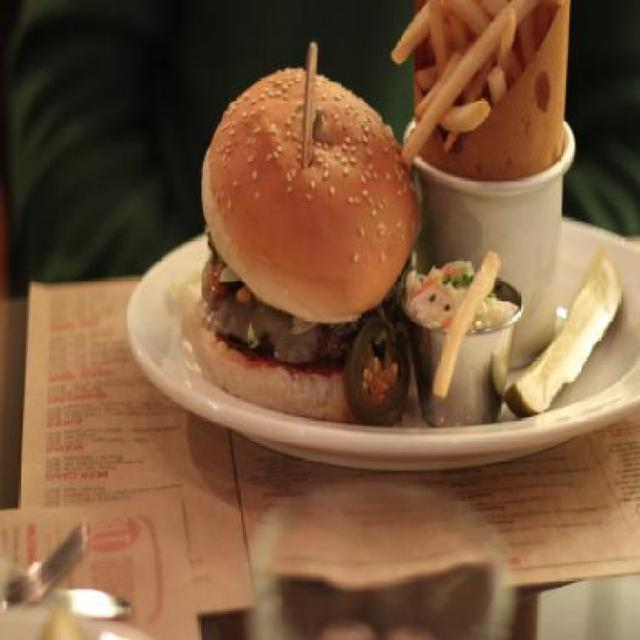Hamburger: (178, 69, 422, 422)
